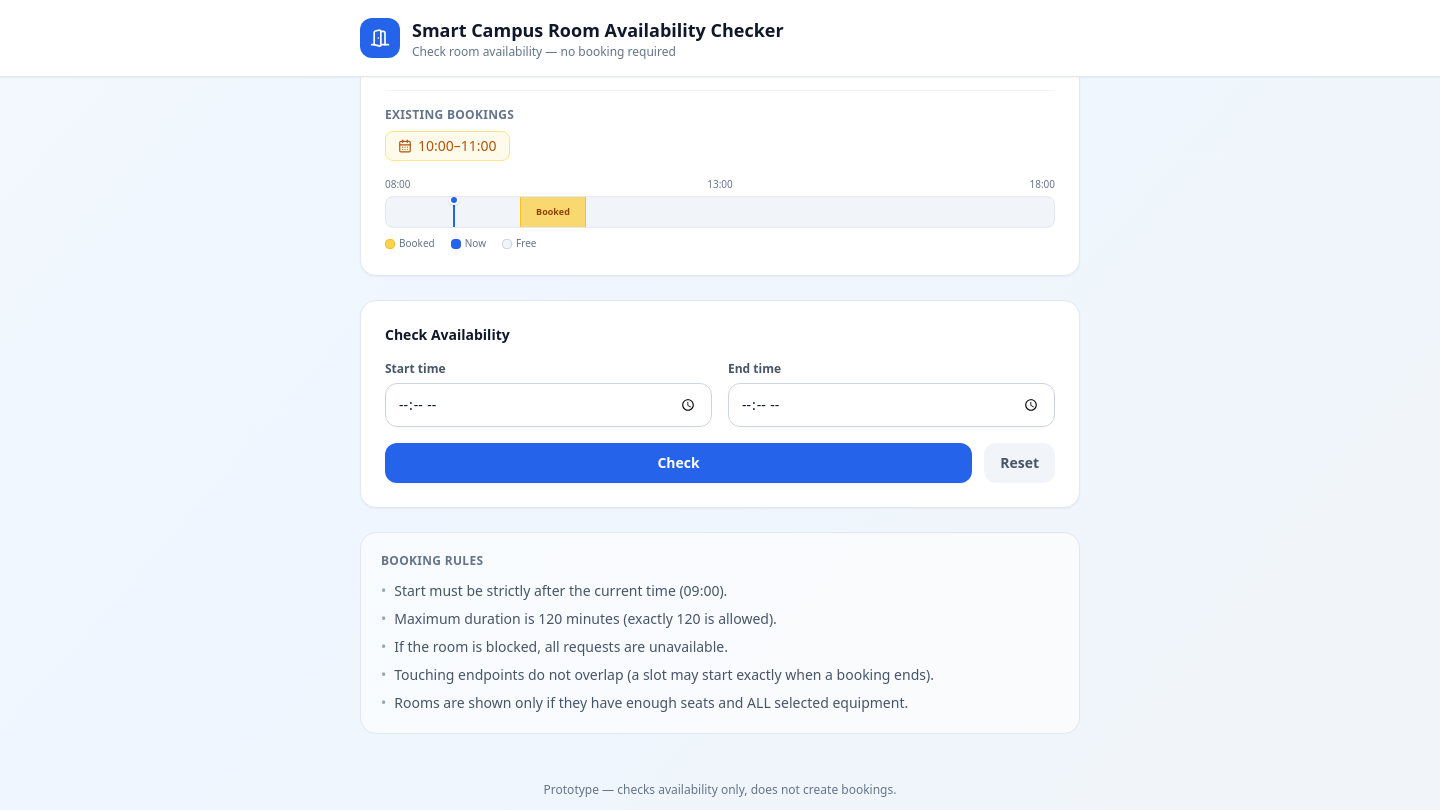
Test: Baseline UI tests — current App behavior › AC6: 12:00–11:00 shows "End time must be after start time."
(page scrolled)
Type "12:00" into the time field labelled "Start time". click: (548, 405)
box: [385,383,712,427]
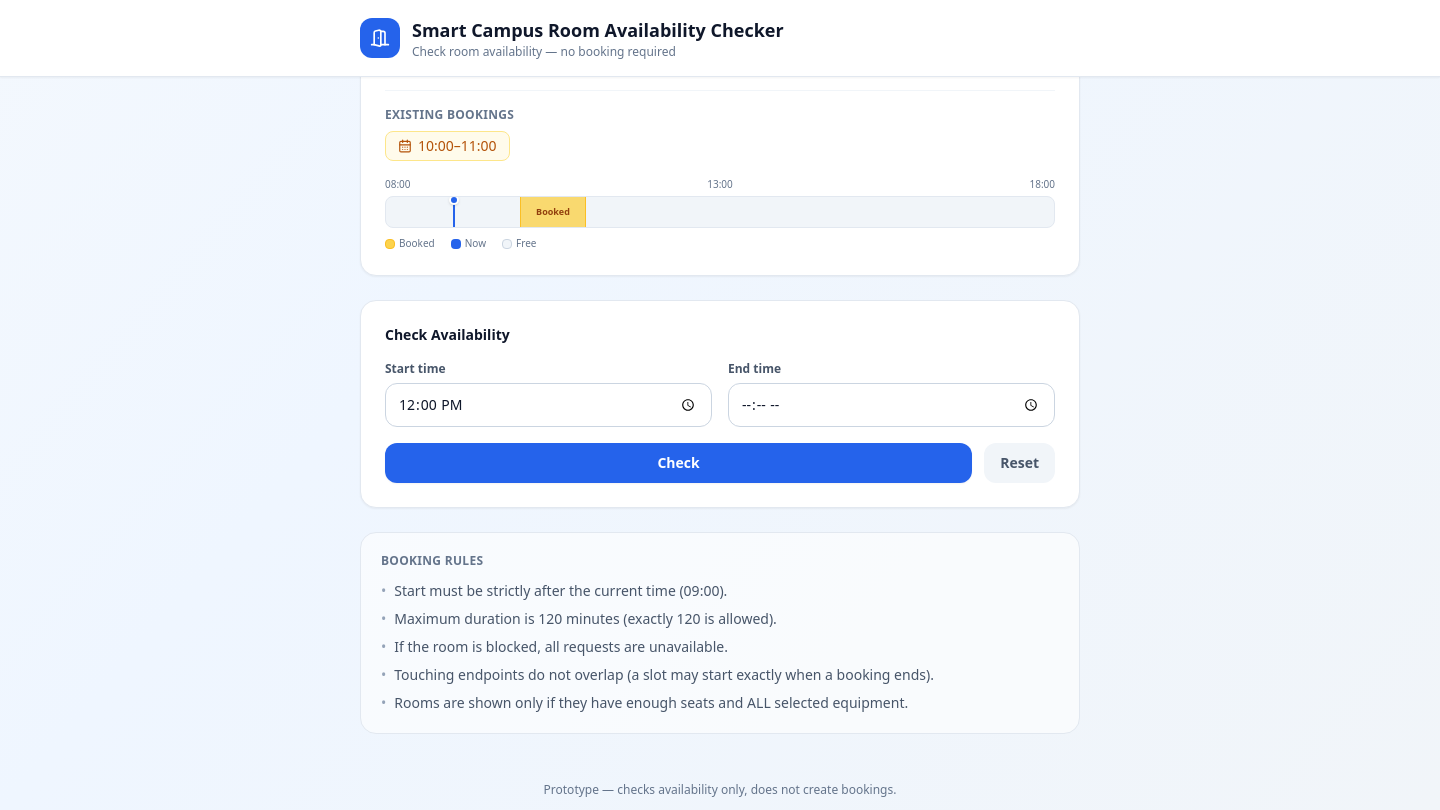
Type "11:00" into the time field labelled "End time". click: (892, 405)
box: [728,383,1055,427]
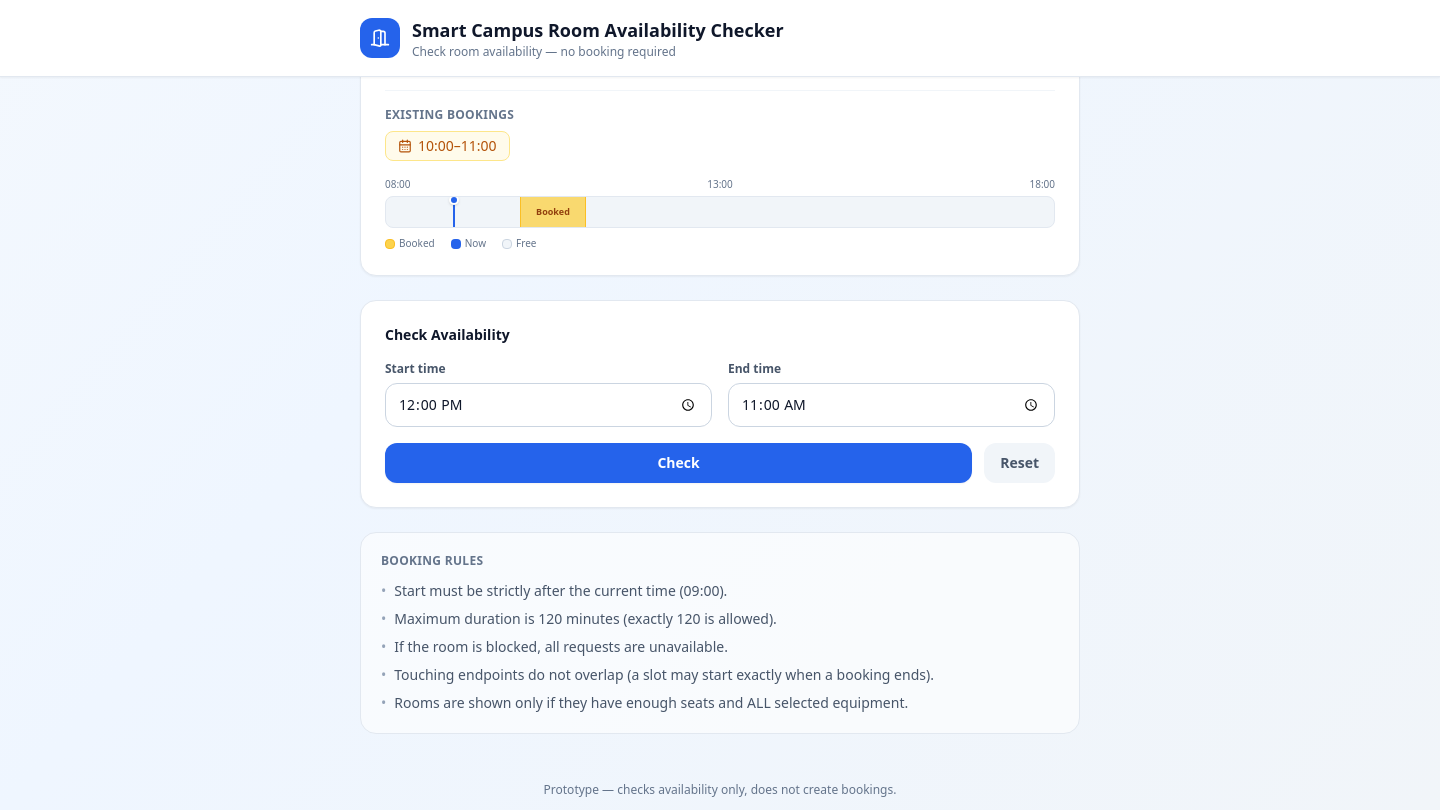
Click the button "Check". click: (679, 463)
box: [385,443,972,483]
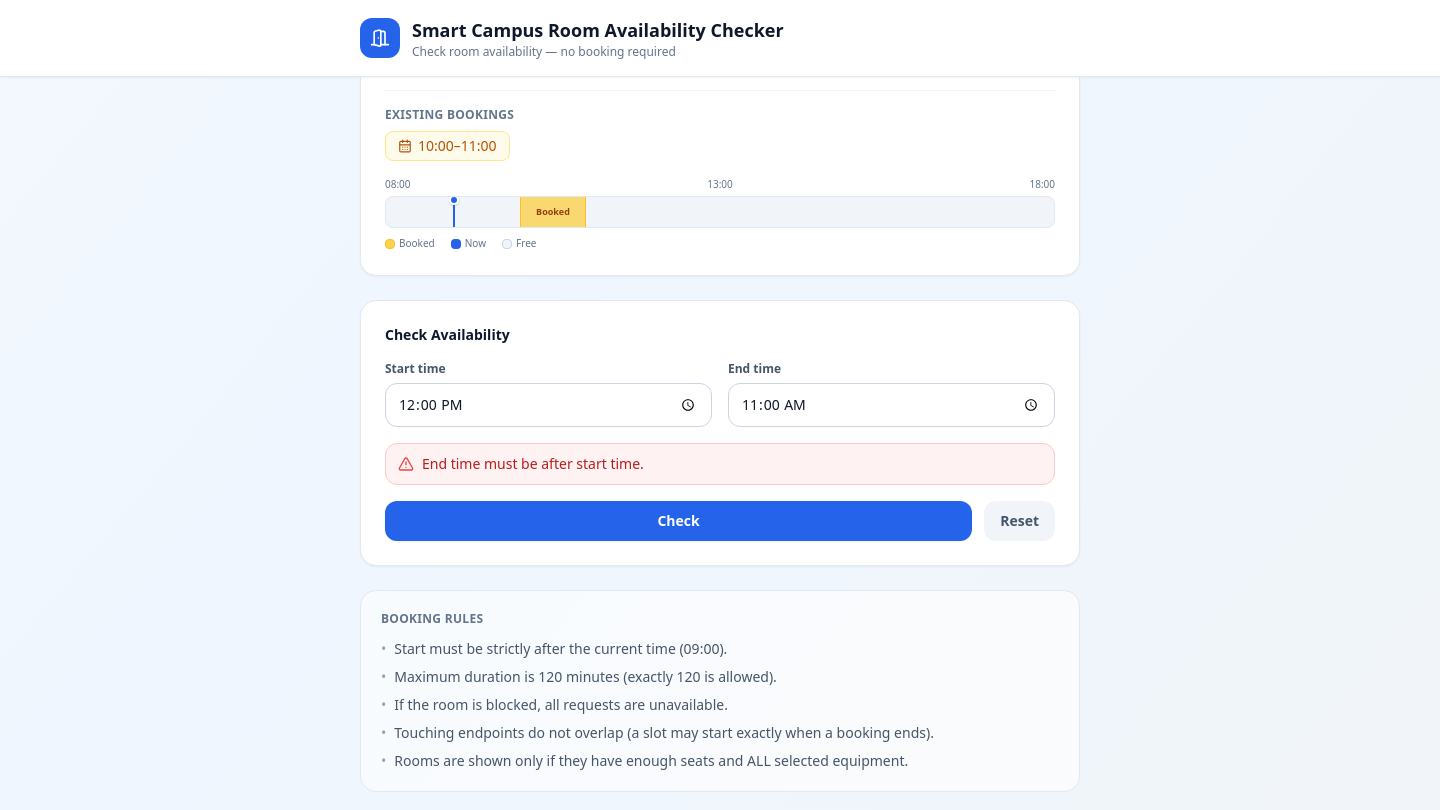
Expected: the text "End time must be after start time." is shown, [422,454,644,474]
